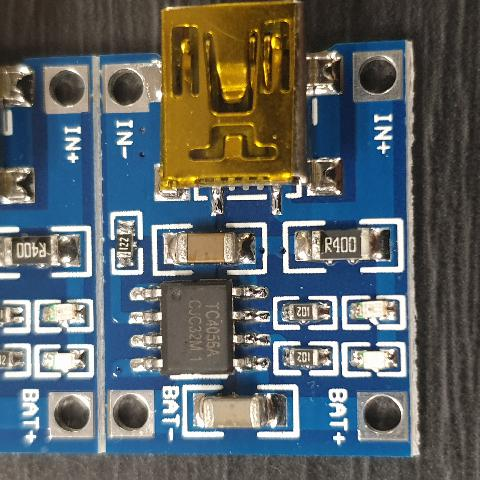batt+: (357, 387, 412, 439), (48, 390, 96, 436)
batt-: (108, 390, 156, 438)
charge: (340, 292, 400, 327), (32, 300, 76, 331)
done: (338, 342, 394, 374), (32, 347, 84, 376)
rprog: (109, 214, 134, 274)
usb: (158, 7, 298, 186)
